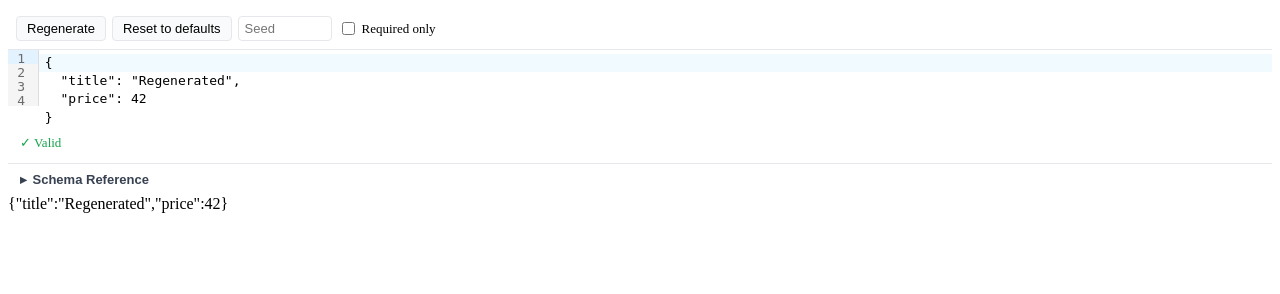
Test: ContextPane › Schema Reference toggle expands and collapses the section
Click the button "▸ Schema Reference": (91, 179) [8, 164, 1272, 195]
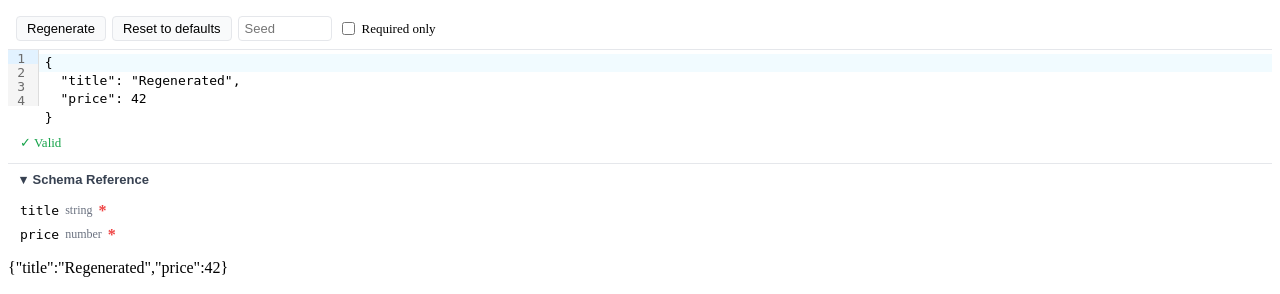
Now the element with test id "schema-reference-fields" is shown, box [20, 202, 116, 243]
Click the button "▾ Schema Reference": (91, 179) [8, 164, 1272, 195]
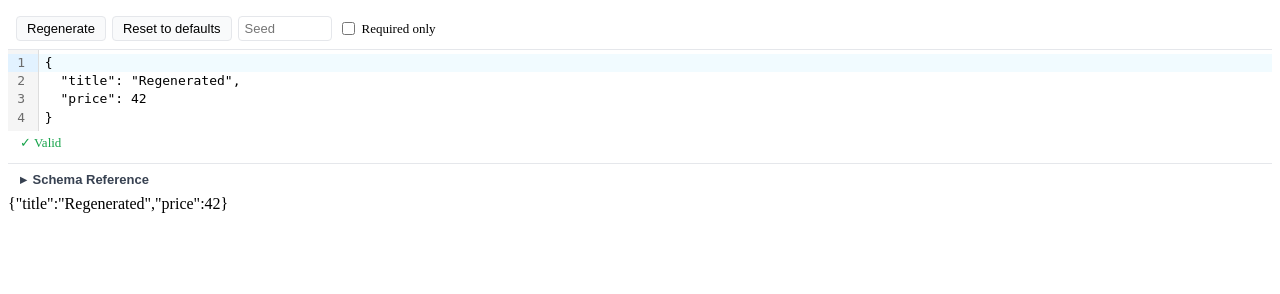
Now the element with test id "schema-reference-fields" is gone
